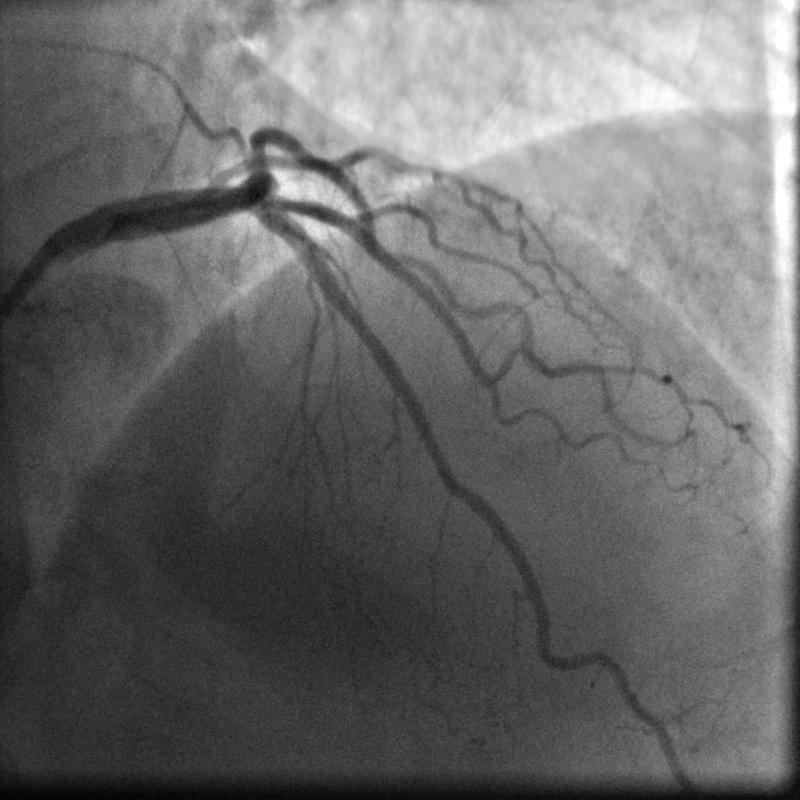Stenosis: (444, 443, 474, 514)
